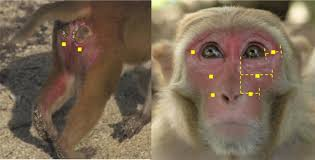monkey: (154, 7, 315, 160), (18, 4, 140, 134)
